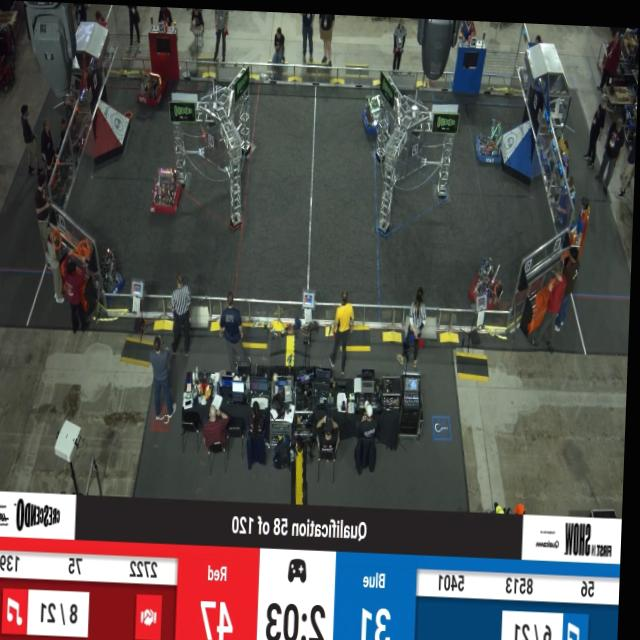Robot: (469, 243, 510, 312), (90, 237, 128, 303), (151, 161, 188, 216), (361, 77, 395, 136), (475, 112, 506, 163), (135, 65, 166, 110)
